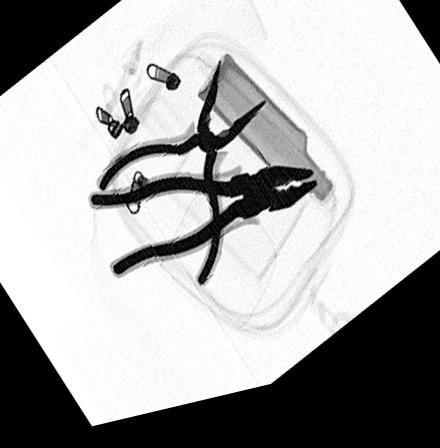Pliers: (94, 66, 268, 296), (87, 175, 320, 284)
